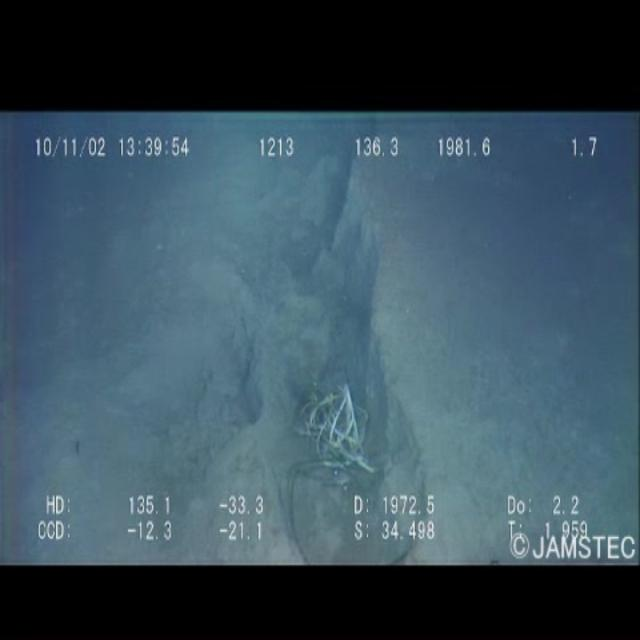Rope: (283, 371, 395, 498)
